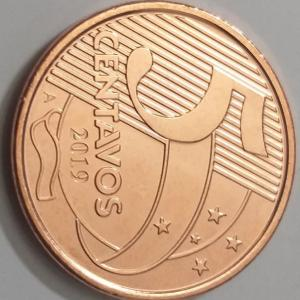5 cent: (9, 0, 296, 299)
